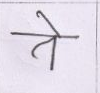e_matra: (37, 10, 63, 35)
